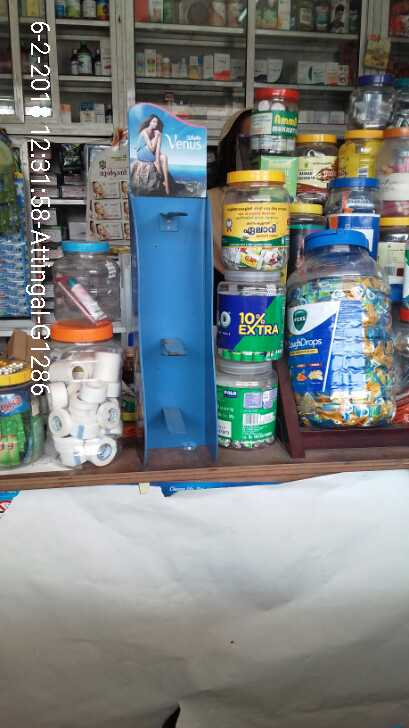pharmacy: (291, 273, 389, 428)
